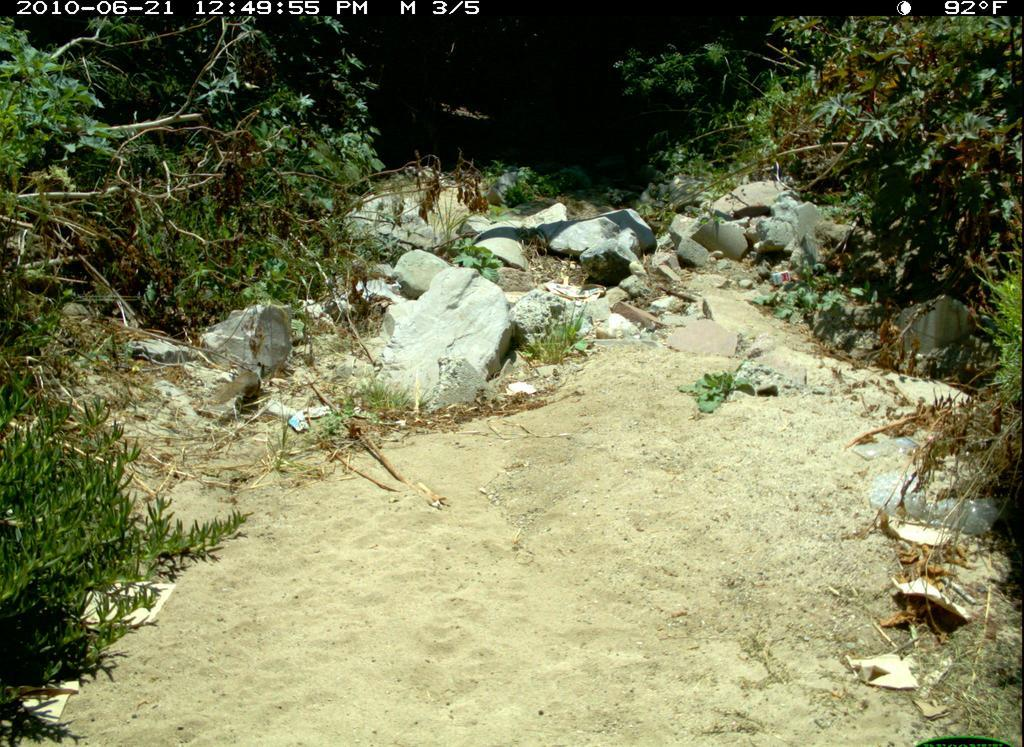squirrel: (204, 367, 266, 421)
